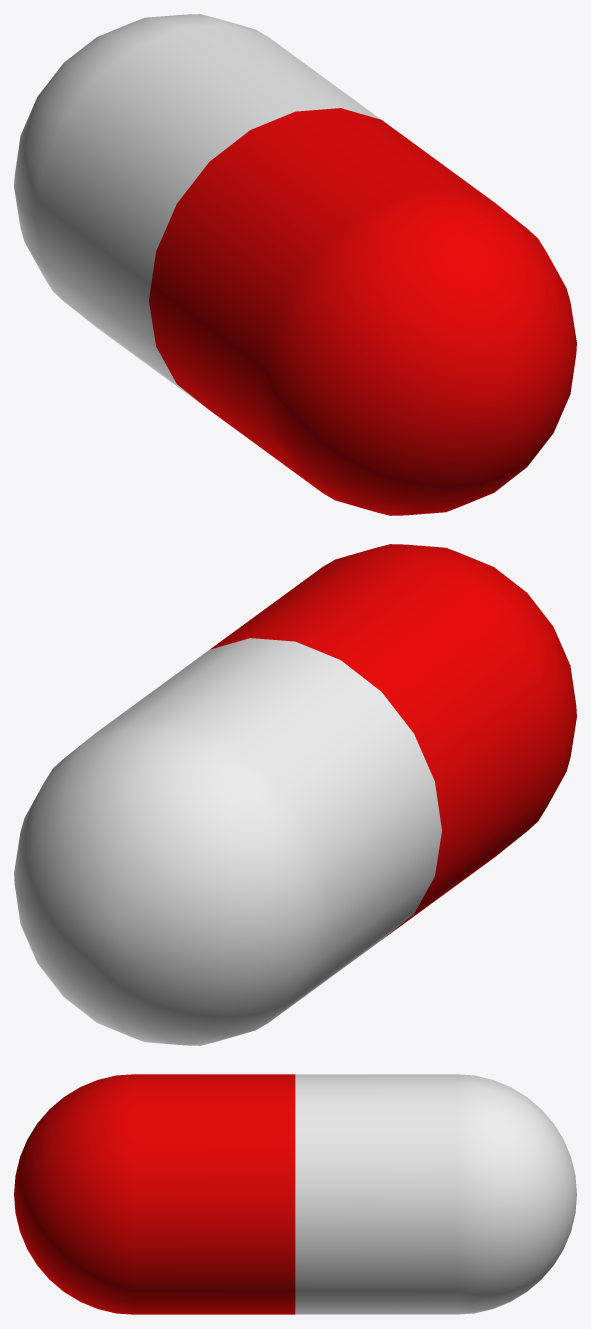
The model's file is bullet.fbx.
3 renders of one model, top to bottom at view 1: azimuth 30°, elevation 25°; view 2: azimuth 150°, elevation 25°; view 3: azimuth 270°, elevation 25°, orthographic. The views are drawn at different scales.
Parts seen in each view (by area): view 1: pSphere1; view 2: pSphere1; view 3: pSphere1.
Part boxes in pixels (left/top/right/bottom): pSphere1: left=14, top=14, right=576, bottom=515; pSphere1: left=14, top=544, right=576, bottom=1045; pSphere1: left=14, top=1074, right=576, bottom=1314.
Size of the model in its own units: 1.99 by 1.99 by 4.64.
